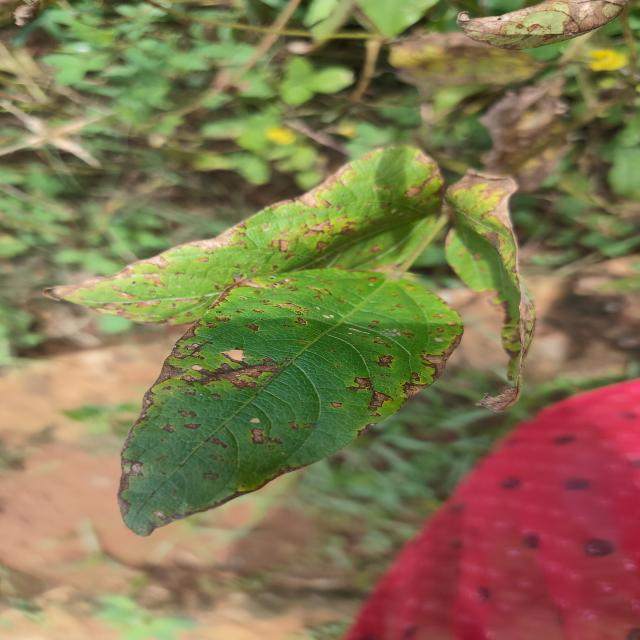Black gram_leaf spot: (119, 269, 462, 536), (49, 144, 458, 330), (438, 172, 542, 416)
